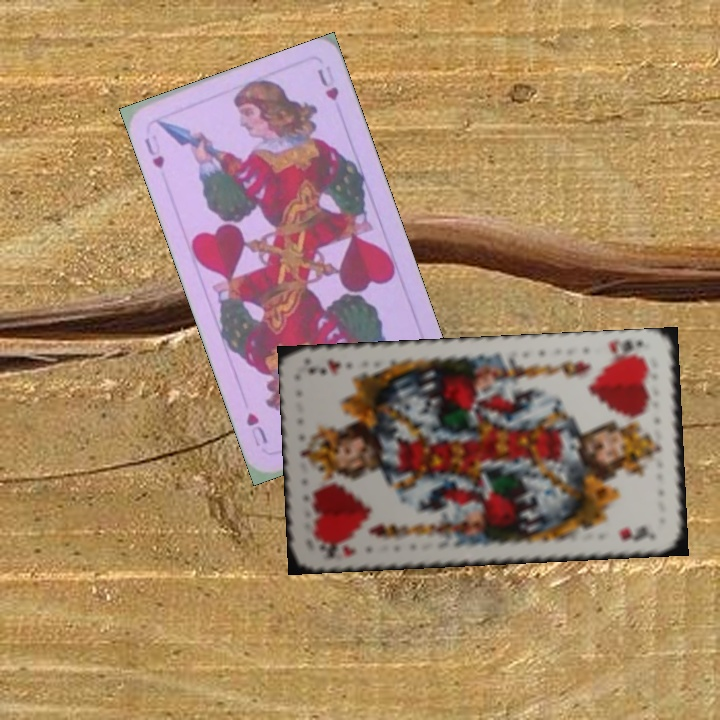HK: (605, 336, 648, 363), (315, 539, 359, 562)
HU: (140, 133, 167, 172)
